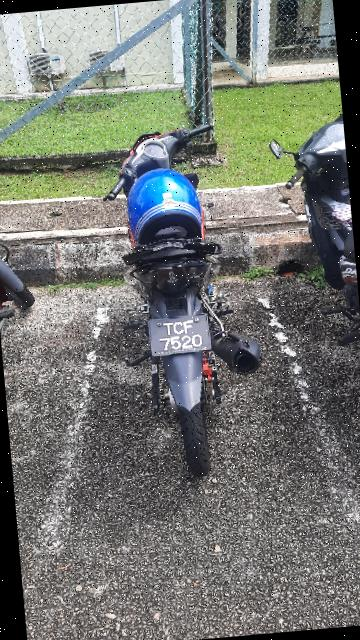License_Plate: (142, 307, 222, 365)
motorcycle: (93, 109, 280, 486)
